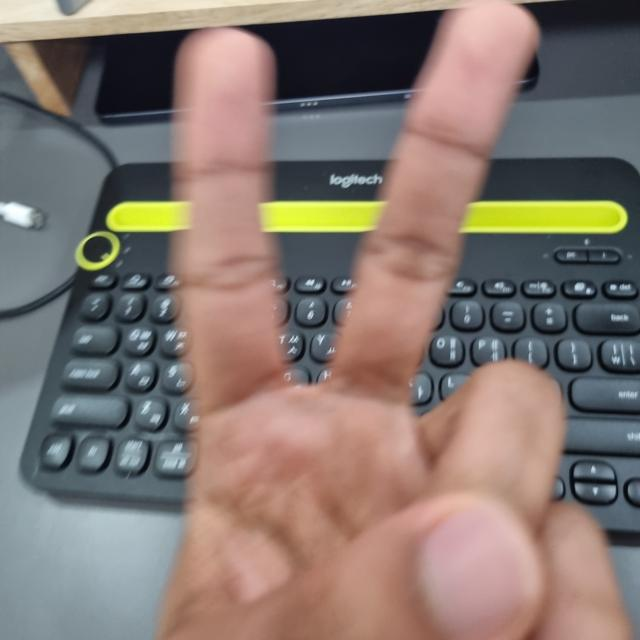Scissors: (152, 8, 633, 639)
